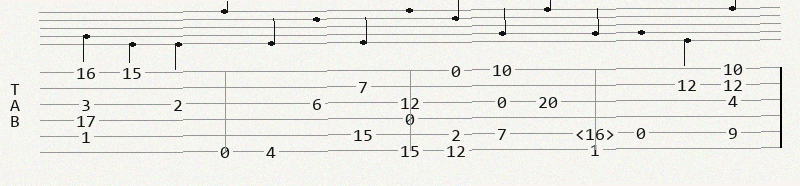0: (220, 143, 234, 158), (405, 111, 419, 126), (451, 63, 465, 78), (497, 95, 511, 110), (636, 127, 650, 142)
1: (81, 127, 95, 142), (590, 143, 604, 158)
10: (492, 63, 516, 78), (723, 63, 747, 78)
12: (400, 95, 424, 110), (446, 143, 470, 158), (677, 79, 701, 94), (723, 79, 747, 94)
15: (122, 63, 146, 78), (353, 127, 377, 142), (400, 143, 424, 158)
16: (76, 63, 100, 78)
17: (76, 111, 100, 126)
2: (173, 95, 187, 110), (451, 127, 465, 142)
20: (538, 95, 562, 110)
3: (81, 95, 95, 110)
4: (266, 143, 280, 158), (728, 95, 742, 110)
6: (312, 95, 326, 110)
7: (358, 79, 372, 94), (497, 127, 511, 142)
9: (728, 127, 742, 142)
harmonic: (575, 127, 619, 142)
